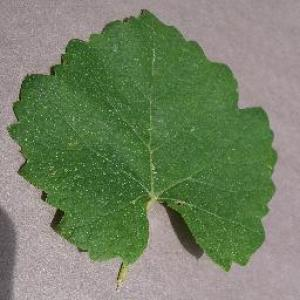Folha: (6, 8, 278, 291)
